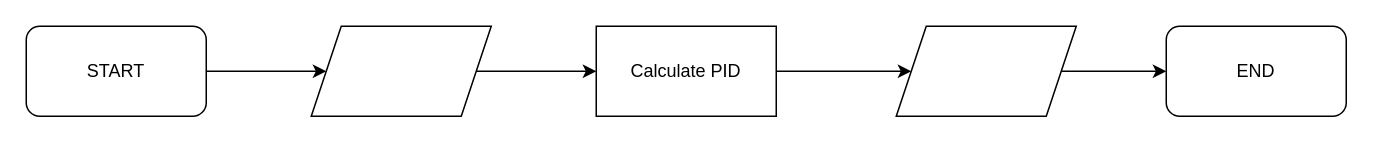
The diagram is 1373 pixels wide and 143 high, and some of its shapes have lost their labels. Each missing label, with the centre of its shape:
"Get the steering angle from I2C" belongs at point (400, 70).
"Rotate the motor as the output of PID" belongs at point (985, 70).
